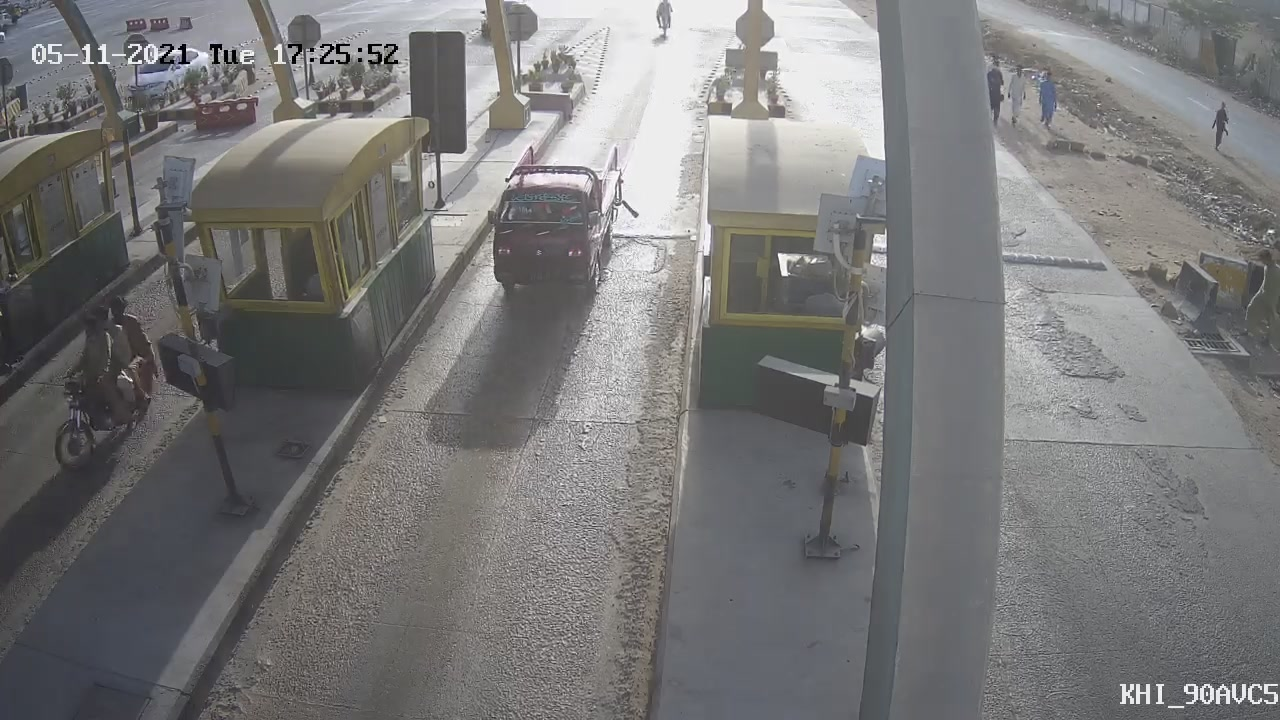F1: (468, 128, 651, 329)
